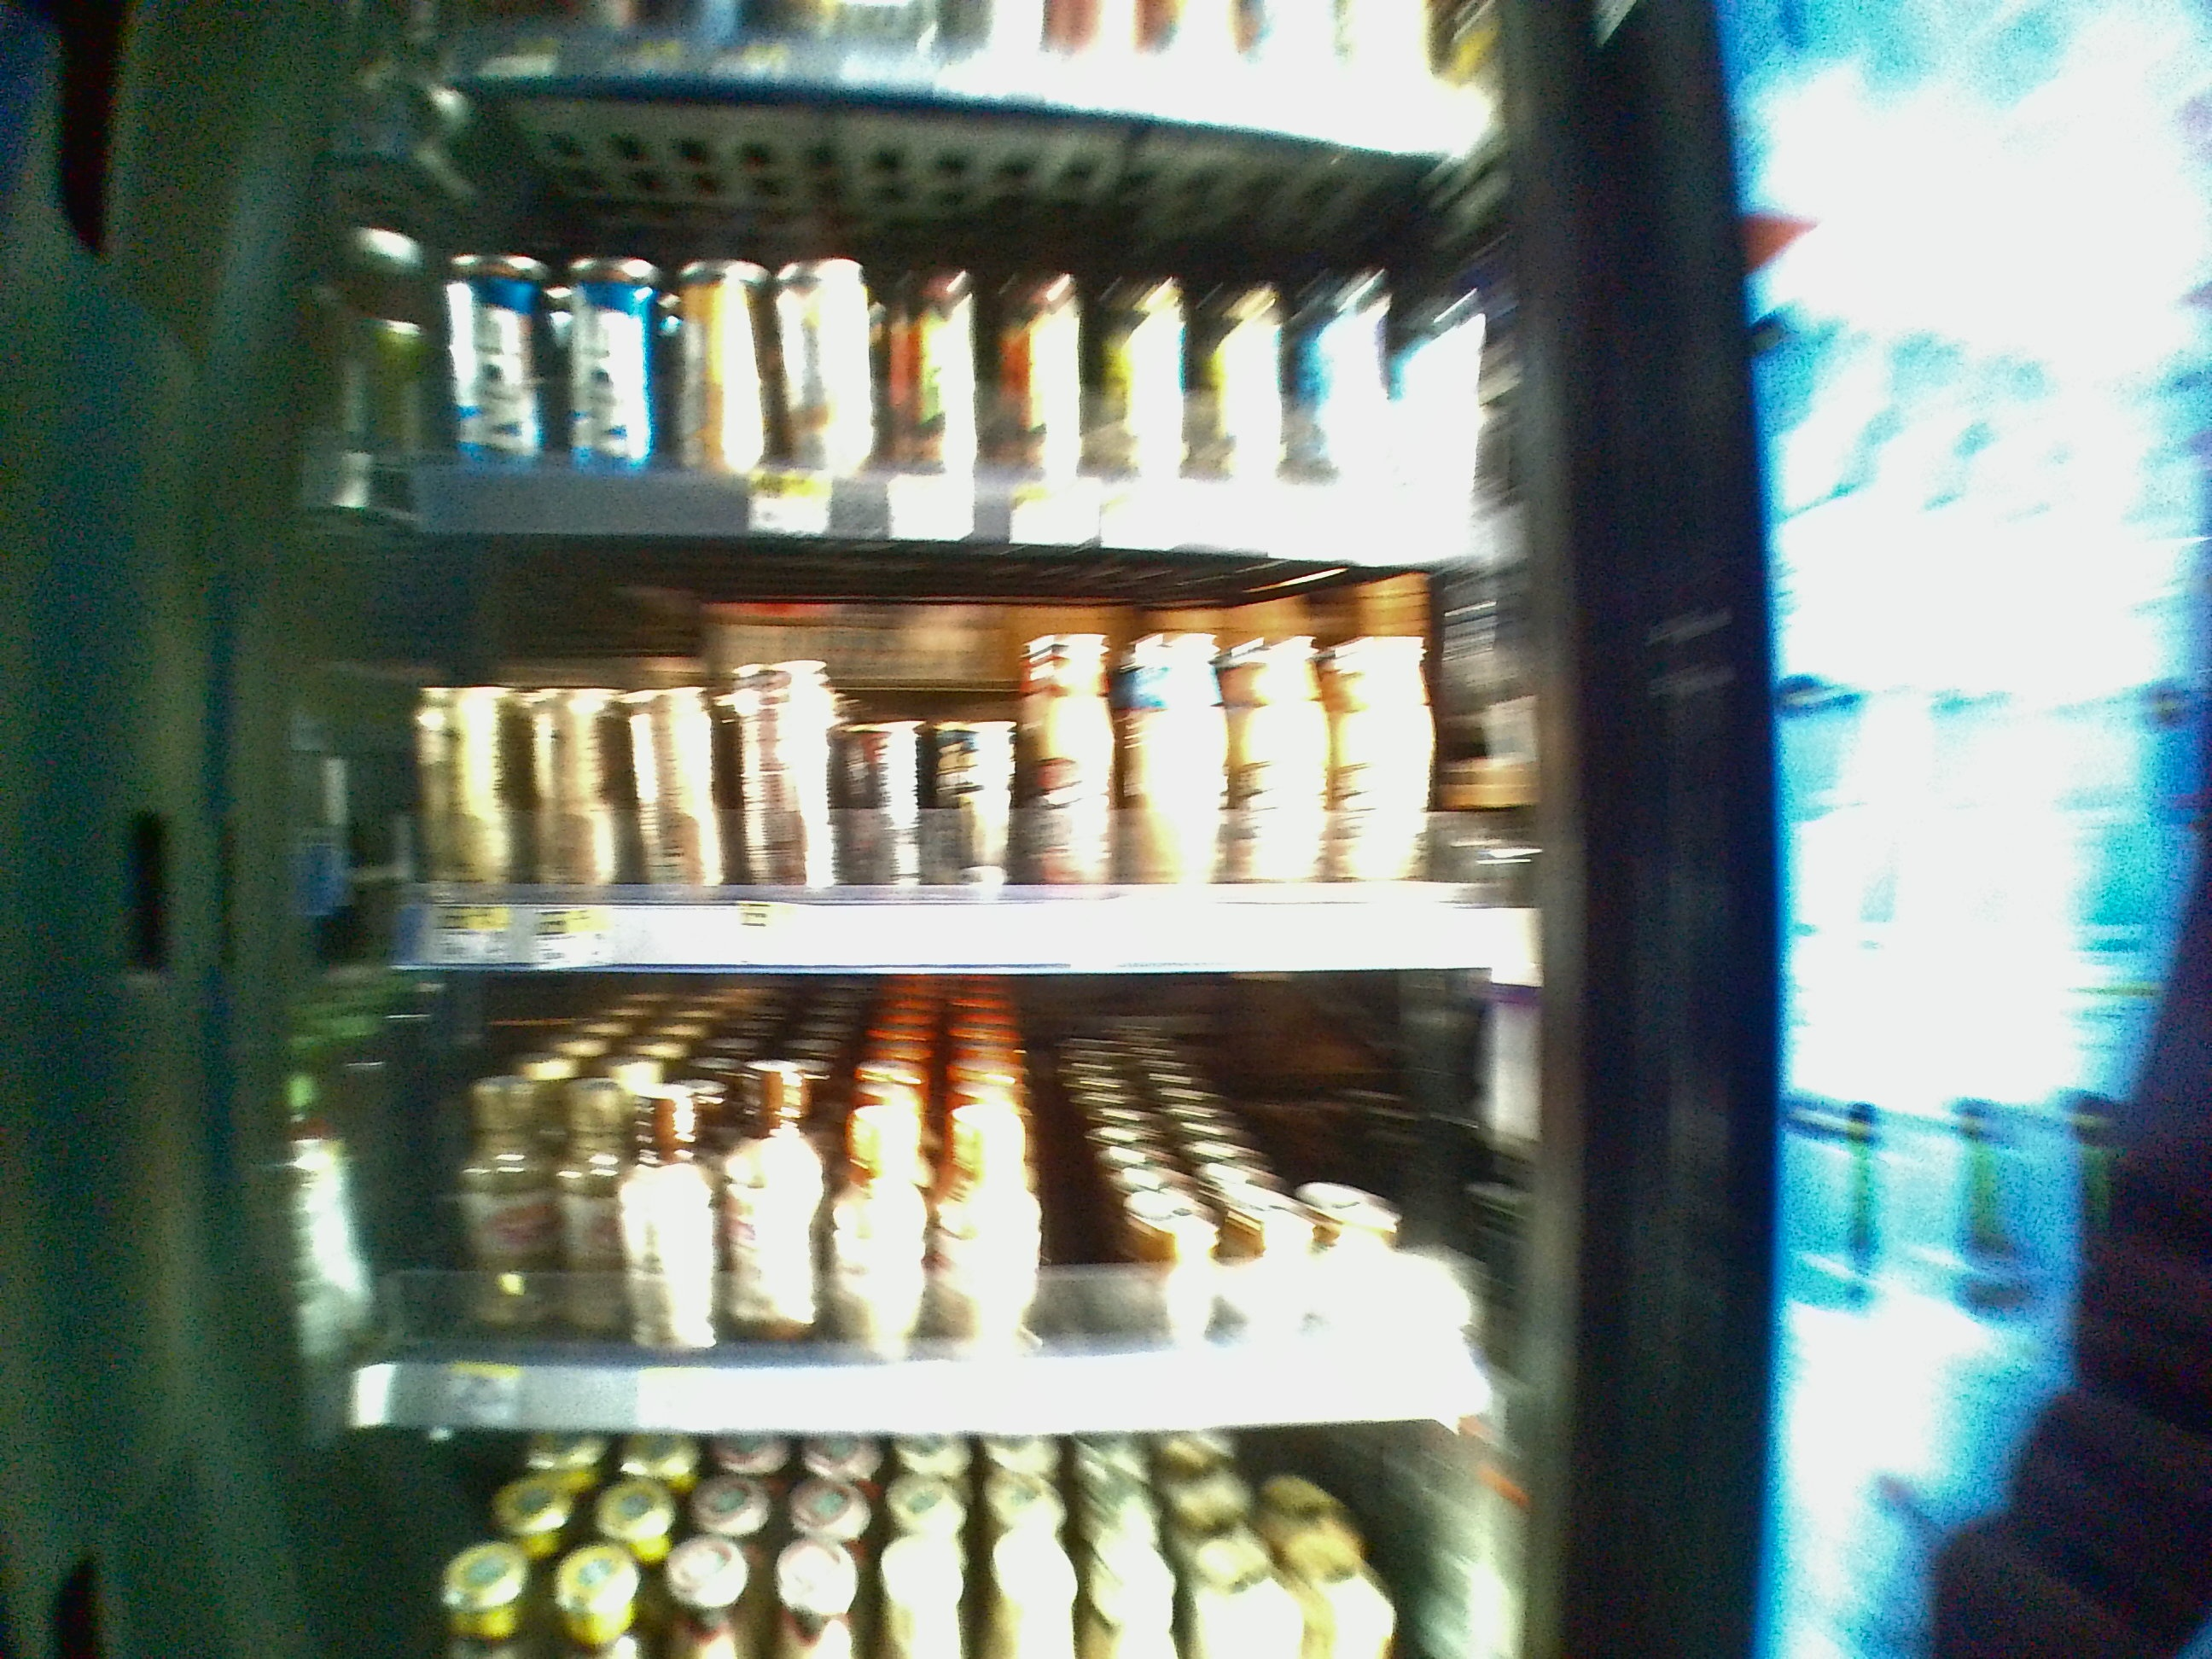shelf: (235, 979, 1561, 1424), (254, 535, 1554, 974)
